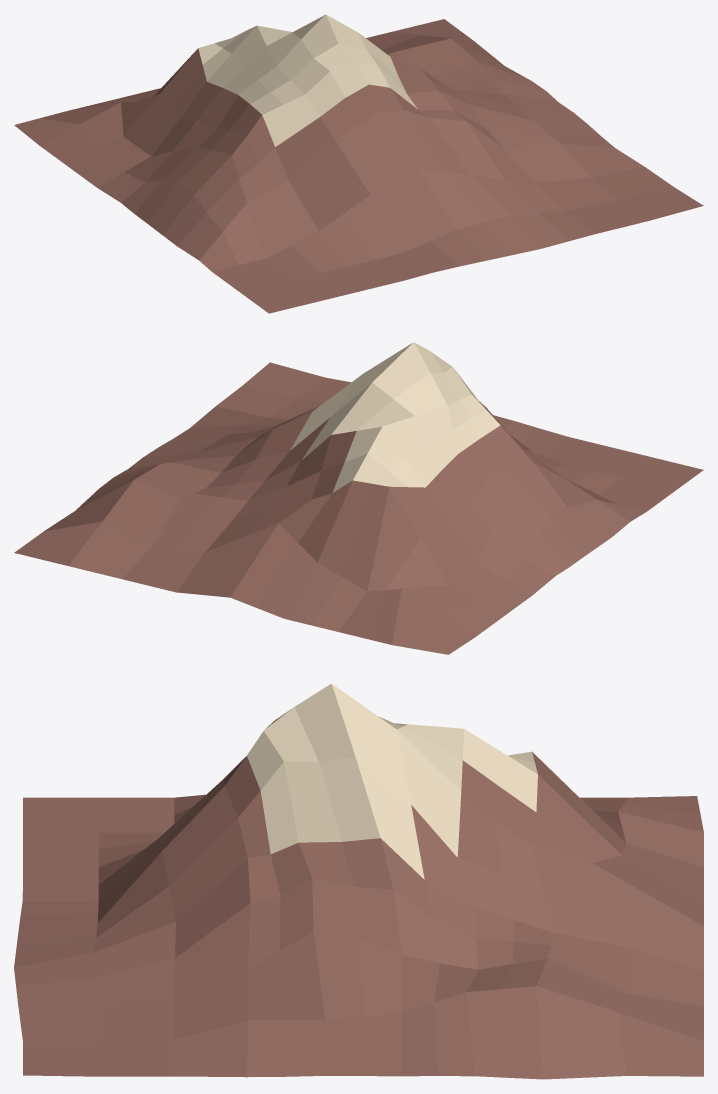
The model's file is gora.fbx.
3 views of the same model, one above another, from view 1: azimuth 30°, elevation 25°; view 2: azimuth 150°, elevation 25°; view 3: azimuth 270°, elevation 25° (orthographic). The views are drawn at different scales.
Parts seen in each view (by area): view 1: Mountain|mountain3_L_mountain_blend_2ef5fb67-c9f7-4300-922d-; view 2: Mountain|mountain3_L_mountain_blend_2ef5fb67-c9f7-4300-922d-; view 3: Mountain|mountain3_L_mountain_blend_2ef5fb67-c9f7-4300-922d-.
Part boxes in pixels (<box>): Mountain|mountain3_L_mountain_blend_2ef5fb67-c9f7-4300-922d-: <box>14,14,703,313</box>; Mountain|mountain3_L_mountain_blend_2ef5fb67-c9f7-4300-922d-: <box>14,342,703,654</box>; Mountain|mountain3_L_mountain_blend_2ef5fb67-c9f7-4300-922d-: <box>14,683,703,1079</box>.
Bounding box in the file's own units: 8137 × 3102 × 8467.
